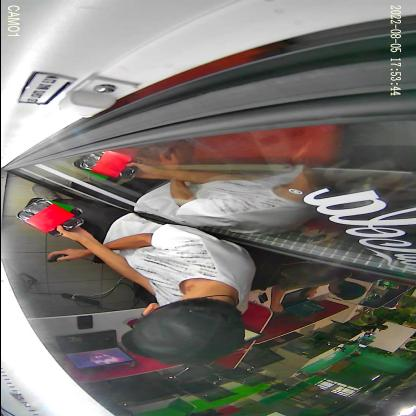green: (24, 198, 82, 218)
red: (16, 200, 83, 236)
